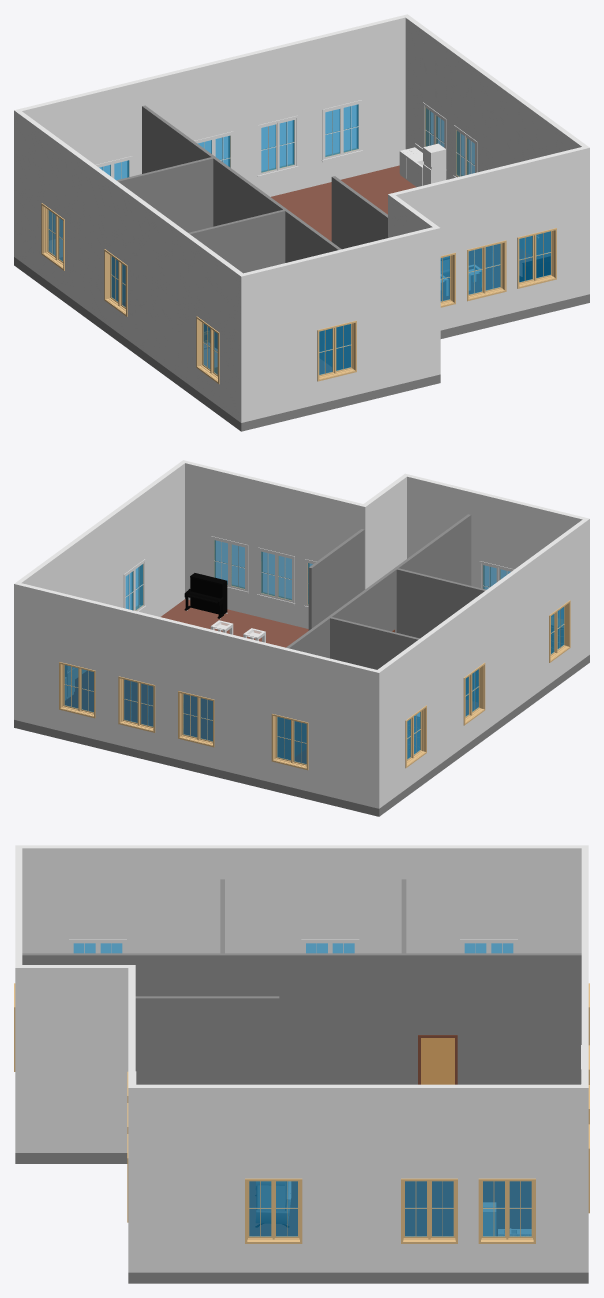
File: dollhouse2.glb
3 renders of one model, top to bottom at view 1: azimuth 30°, elevation 25°; view 2: azimuth 150°, elevation 25°; view 3: azimuth 270°, elevation 25°, orthographic. The views are drawn at different scales.
Visible parts, largest first — view 1: Generic - 8" Masonry:1, Generic - 8" Masonry, Generic - 8" Masonry:5, Generic - 8" Masonry:3, Generic - 8" Masonry:2, Wood Truss Joist 12" - Carpet Finish, Interior - 5" Partition (2-hr):2, Interior - 5" Partition (2-hr):1, Interior - 5" Partition (2-hr):3, Interior - 5" Partition (2-hr), Generic - 8" Masonry:4, 57" x 72":22 (+10 smaller); view 2: Generic - 8" Masonry:1, Generic - 8" Masonry, Generic - 8" Masonry:3, Generic - 8" Masonry:2, Wood Truss Joist 12" - Carpet Finish, Generic - 8" Masonry:5, Interior - 5" Partition (2-hr):2, Interior - 5" Partition (2-hr):3, Interior - 5" Partition (2-hr), Generic - 8" Masonry:4, Interior - 5" Partition (2-hr):1, 60" x 26" x 52" (+12 smaller); view 3: Generic - 8" Masonry:2, Generic - 8" Masonry, Interior - 5" Partition (2-hr):2, Generic - 8" Masonry:4, Interior - 5" Partition (2-hr), Wood Truss Joist 12" - Carpet Finish, Generic - 8" Masonry:1, 36" x 84":2, 57" x 72":1, 57" x 72":93, 57" x 72":2, 57" x 72":8 (+7 smaller).
Boxes of the visible parts, box(x1,y1,x2,y2) form: Generic - 8" Masonry:1: box(19, 14, 409, 239); Generic - 8" Masonry: box(14, 109, 246, 422); Generic - 8" Masonry:5: box(244, 227, 435, 421); Generic - 8" Masonry:3: box(388, 147, 584, 330); Generic - 8" Masonry:2: box(405, 16, 589, 295); Wood Truss Joist 12" - Carpet Finish: box(14, 165, 589, 431); Interior - 5" Partition (2-hr):2: box(142, 105, 350, 369); Interior - 5" Partition (2-hr):1: box(112, 157, 213, 301); Interior - 5" Partition (2-hr):3: box(188, 209, 285, 348); Interior - 5" Partition (2-hr): box(331, 176, 387, 249); Generic - 8" Masonry:4: box(390, 195, 440, 375); 57" x 72":22: box(343, 104, 358, 152); Generic - 8" Masonry:1: box(14, 582, 376, 807); Generic - 8" Masonry: box(374, 517, 589, 808); Generic - 8" Masonry:3: box(185, 461, 367, 628); Generic - 8" Masonry:2: box(17, 460, 187, 678); Wood Truss Joist 12" - Carpet Finish: box(14, 599, 589, 816); Generic - 8" Masonry:5: box(407, 475, 584, 618); Interior - 5" Partition (2-hr):2: box(278, 514, 471, 759); Interior - 5" Partition (2-hr):3: box(396, 568, 486, 701); Interior - 5" Partition (2-hr): box(308, 529, 364, 630); Generic - 8" Masonry:4: box(364, 473, 409, 587); Interior - 5" Partition (2-hr):1: box(330, 617, 419, 669); 60" x 26" x 52": box(190, 573, 227, 614); Generic - 8" Masonry:2: box(128, 1084, 581, 1272); Generic - 8" Masonry: box(15, 845, 588, 953); Interior - 5" Partition (2-hr):2: box(22, 953, 581, 1084); Generic - 8" Masonry:4: box(15, 965, 128, 1152); Interior - 5" Partition (2-hr): box(135, 996, 279, 1084); Wood Truss Joist 12" - Carpet Finish: box(15, 1153, 588, 1283); Generic - 8" Masonry:1: box(581, 848, 588, 1272); 36" x 84":2: box(421, 1038, 454, 1084); 57" x 72":1: box(249, 1181, 271, 1236); 57" x 72":93: box(509, 1181, 531, 1236); 57" x 72":2: box(276, 1181, 297, 1236); 57" x 72":8: box(405, 1181, 426, 1236).
Bounding box in the file's own units: 1.16 × 0.4341 × 1.16.
